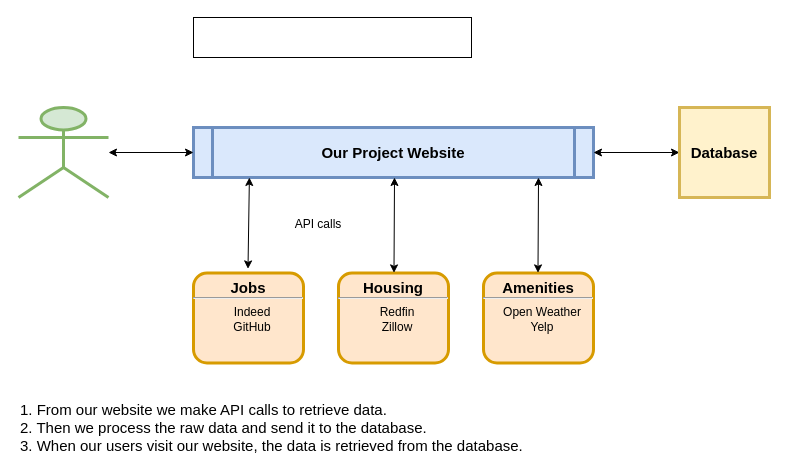
Image size: 788x475. Some labels were removed from this diagram. Here are the shapes that lost their labels. From the top down, the centre of each, then its label:
(332,37): Interaction and Data Flow
(63,152): Users
